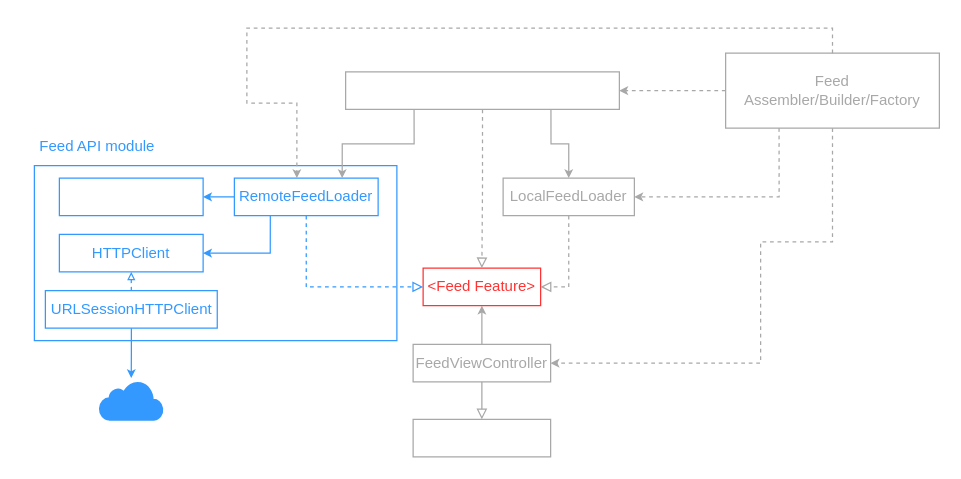
The diagram is 961 pixels wide and 479 high, and some of its shapes have lost their labels. Here are the shapes that lost their labels. From the top down, the centre of each, then its label:
At pixel 481 90: "RemoteWithLocalFallbackFeedLoader".
At pixel 130 196: "FeedItemsMapper".
At pixel 481 437: "UIViewController".
